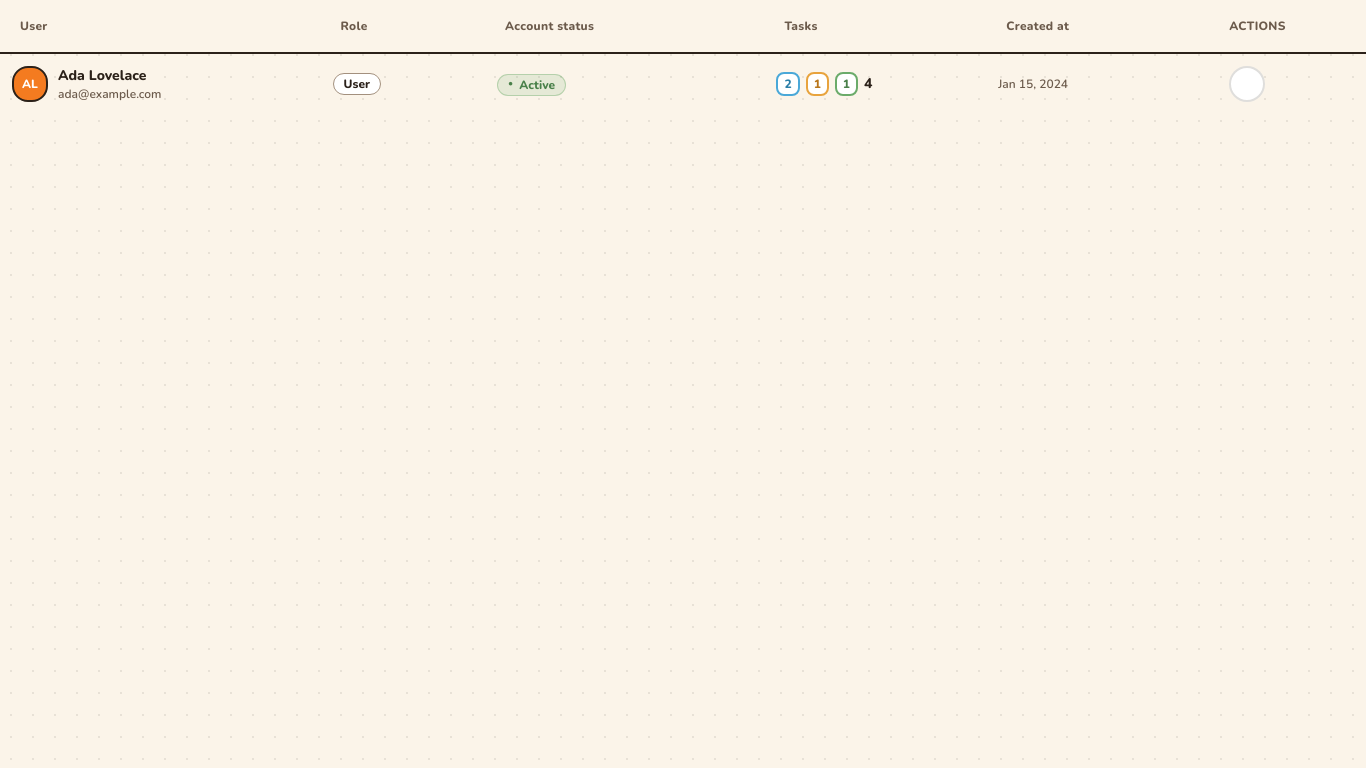
Test: the users table › hides the destructive actions on a row that cannot be managed
Click the button named "Actions for Ada Lovelace". click: (1247, 84)
box: [1229, 66, 1265, 102]
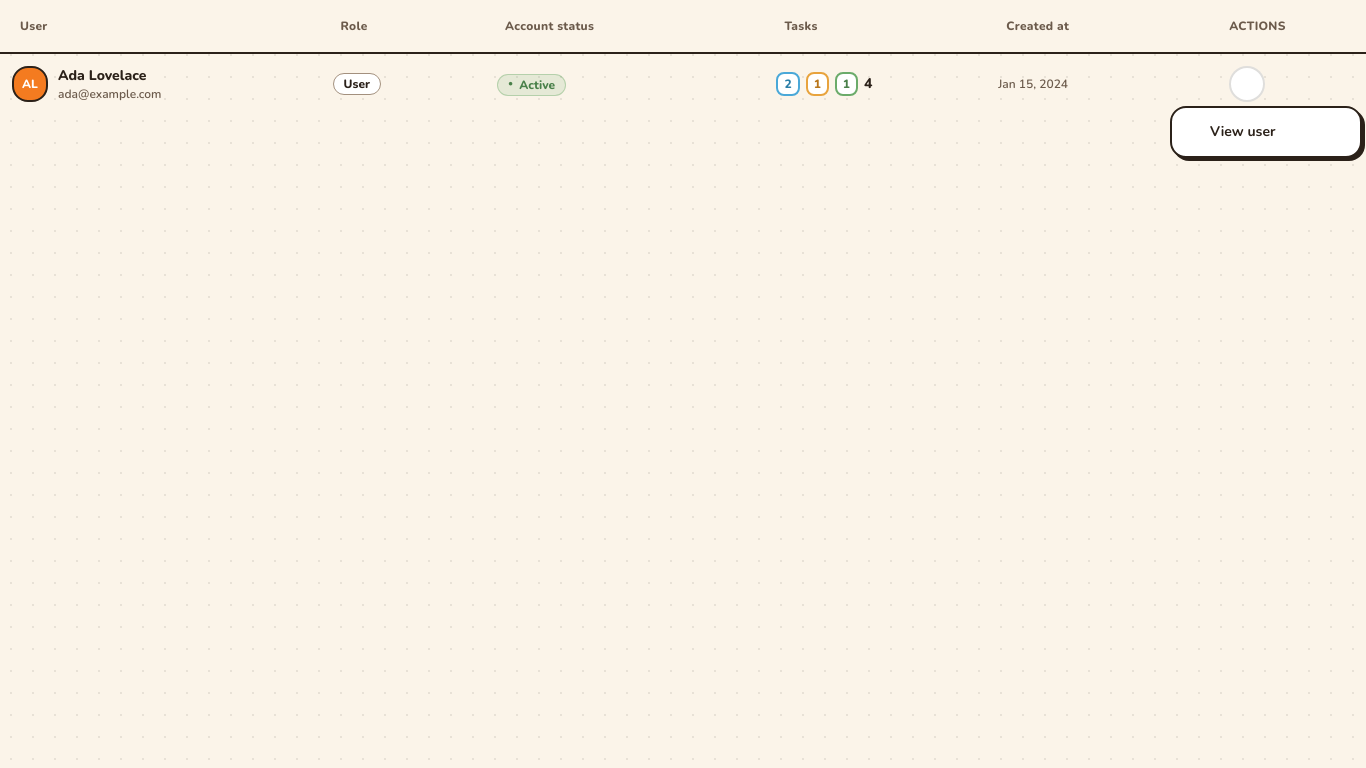
Expected: the menu item "View user" is shown, [1172, 114, 1360, 150]
